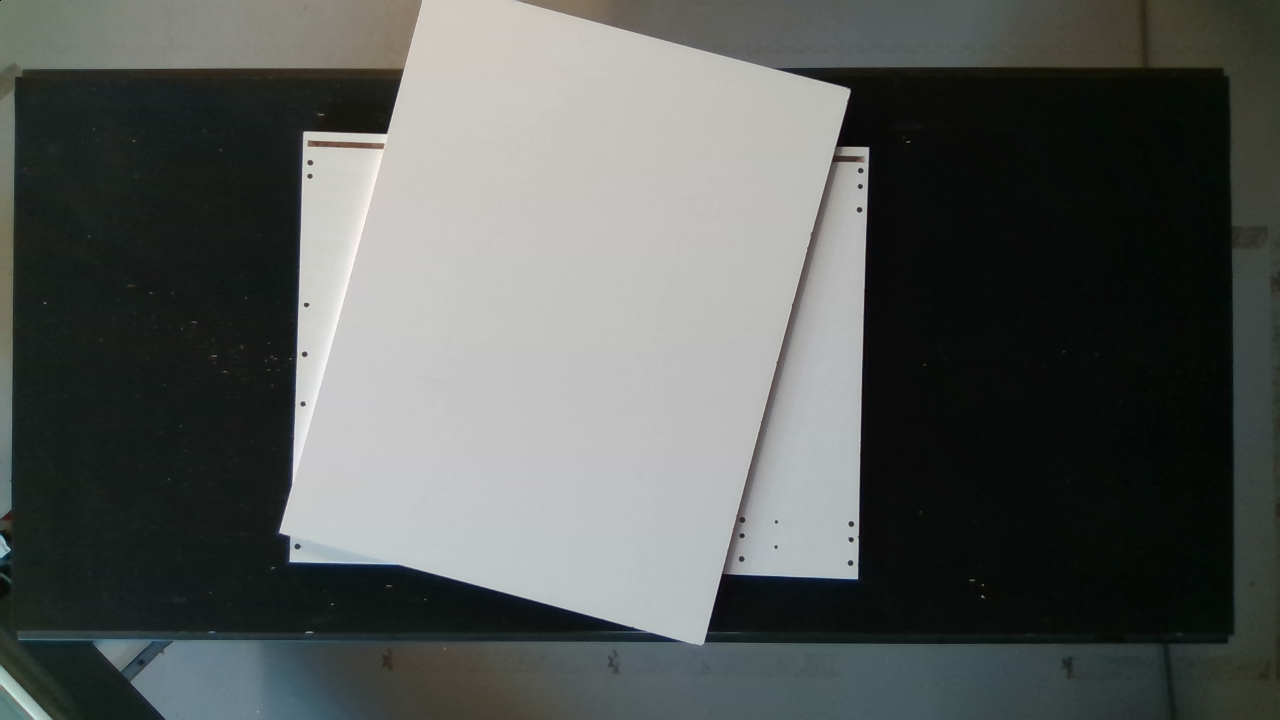part2: (268, 5, 867, 654)
